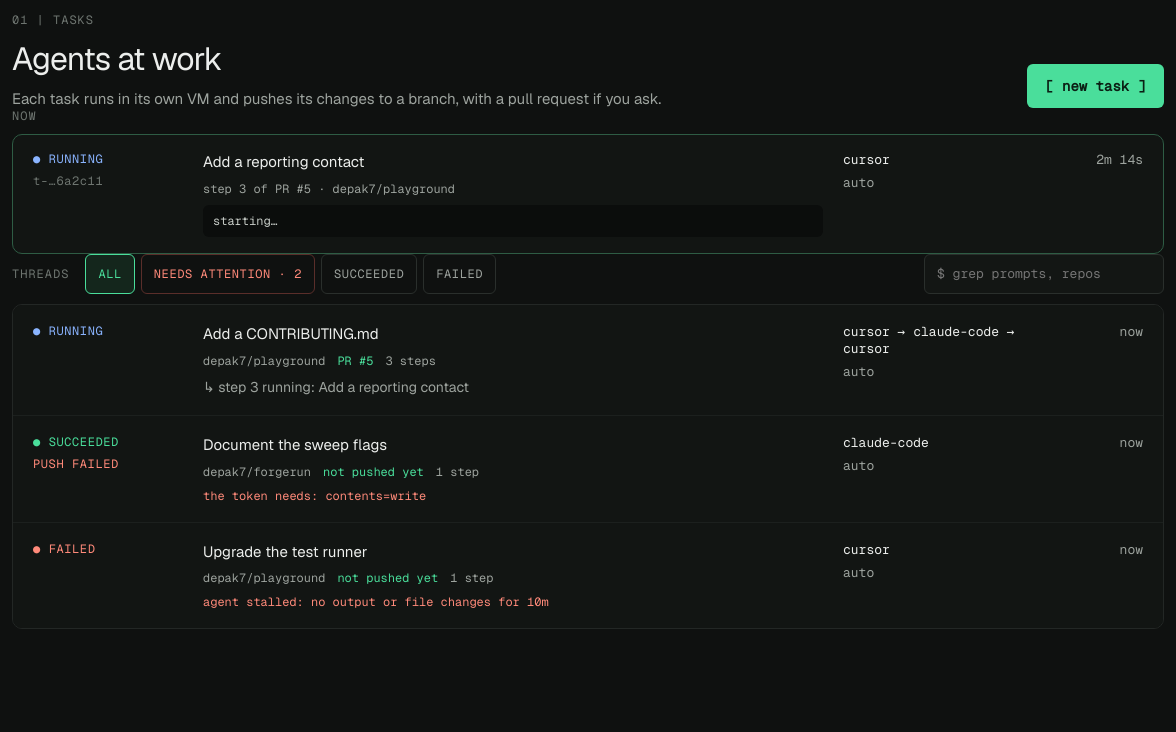
Test: TasksPage › searches titles and repos
The width and height of the screenshot is (1176, 732).
In the search field named "Search threads": coordinates (1044, 274) x1=924 y1=254 x2=1164 y2=294, type "forgerun"
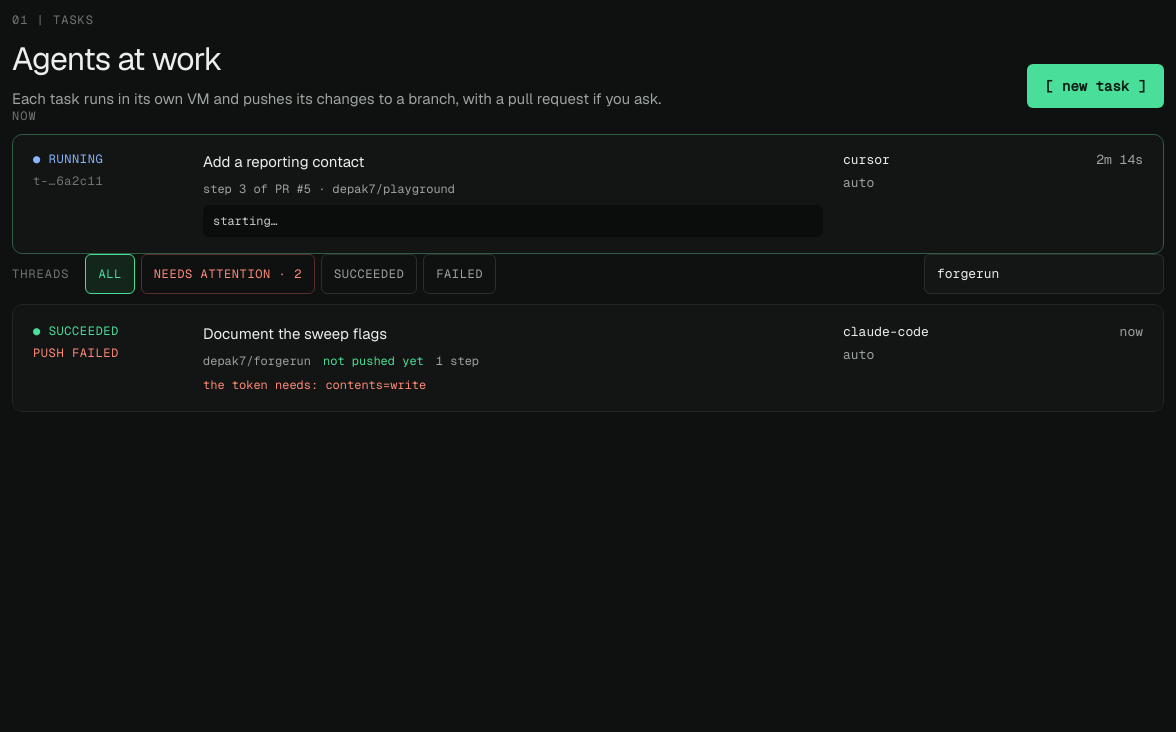
Expected: the text "Document the sweep flags" is shown, x1=203 y1=324 x2=387 y2=343
Now the link "Upgrade the test runner" is gone
Replace the text in the search field named "Search threads" with "nothing like this": coordinates (1044, 274) x1=924 y1=254 x2=1164 y2=294
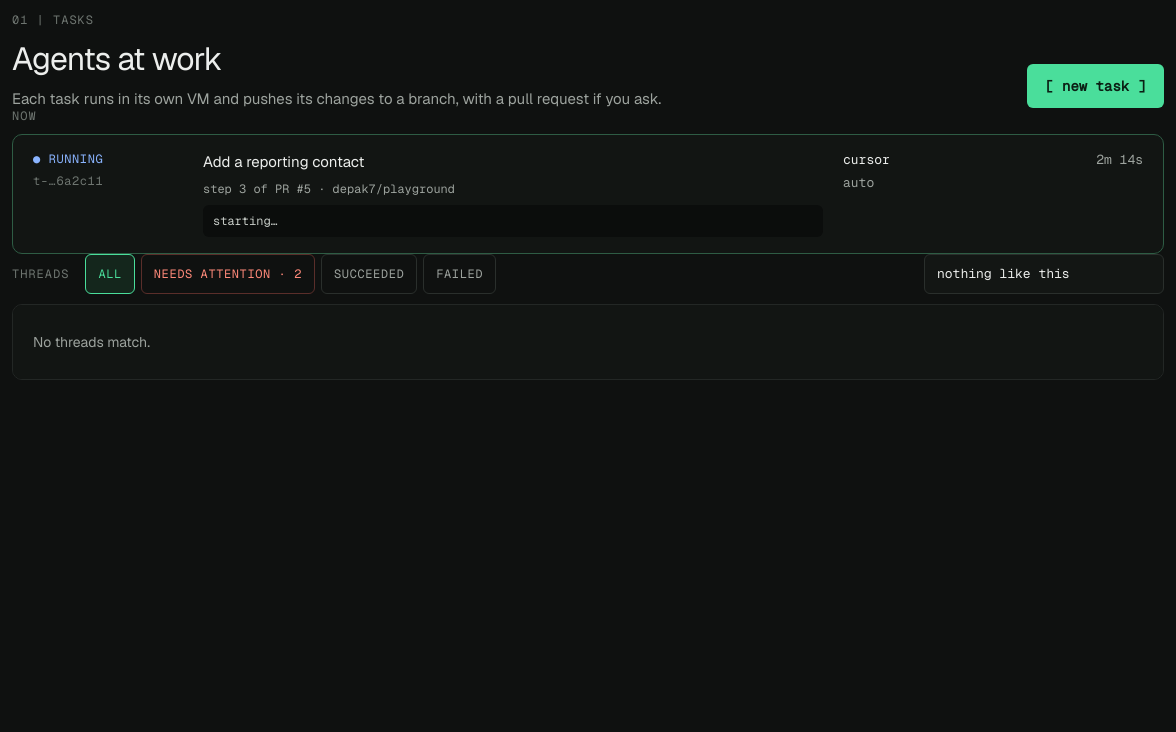
Now the text "No threads match." is shown, box x1=13 y1=305 x2=1163 y2=379
